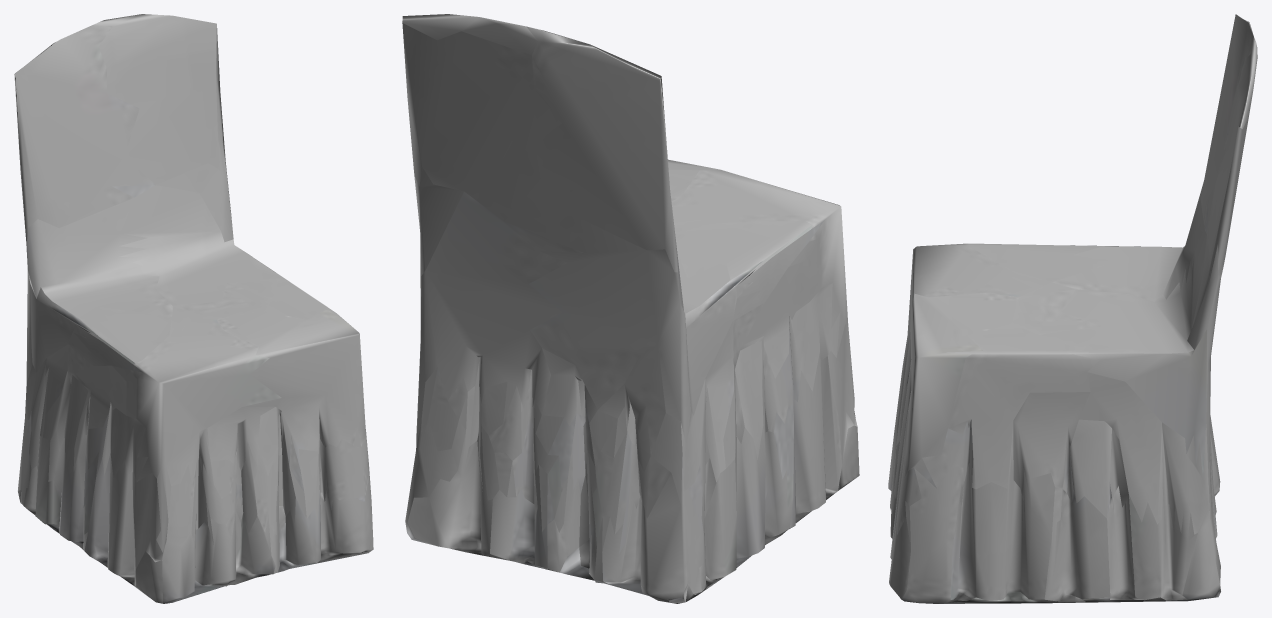
Rendered from kursi_putih_lod2.glb.
The picture shows the model from 3 angles, left to right: view 1: azimuth 30°, elevation 25°; view 2: azimuth 150°, elevation 25°; view 3: azimuth 270°, elevation 25°; orthographic projection. The views are drawn at different scales.
Parts seen in each view (by area): view 1: tripo_node_46798290-bdfc-4412-8845-5d080c4cdf5c; view 2: tripo_node_46798290-bdfc-4412-8845-5d080c4cdf5c; view 3: tripo_node_46798290-bdfc-4412-8845-5d080c4cdf5c.
Boxes of the visible parts, box(x1,y1,x2,y2) form: tripo_node_46798290-bdfc-4412-8845-5d080c4cdf5c: box(14, 14, 373, 603); tripo_node_46798290-bdfc-4412-8845-5d080c4cdf5c: box(402, 14, 859, 603); tripo_node_46798290-bdfc-4412-8845-5d080c4cdf5c: box(888, 14, 1257, 603).
Size of the model in its own units: 0.5457 by 1 by 0.6659.
Materials: 1 (1 with a texture image).
